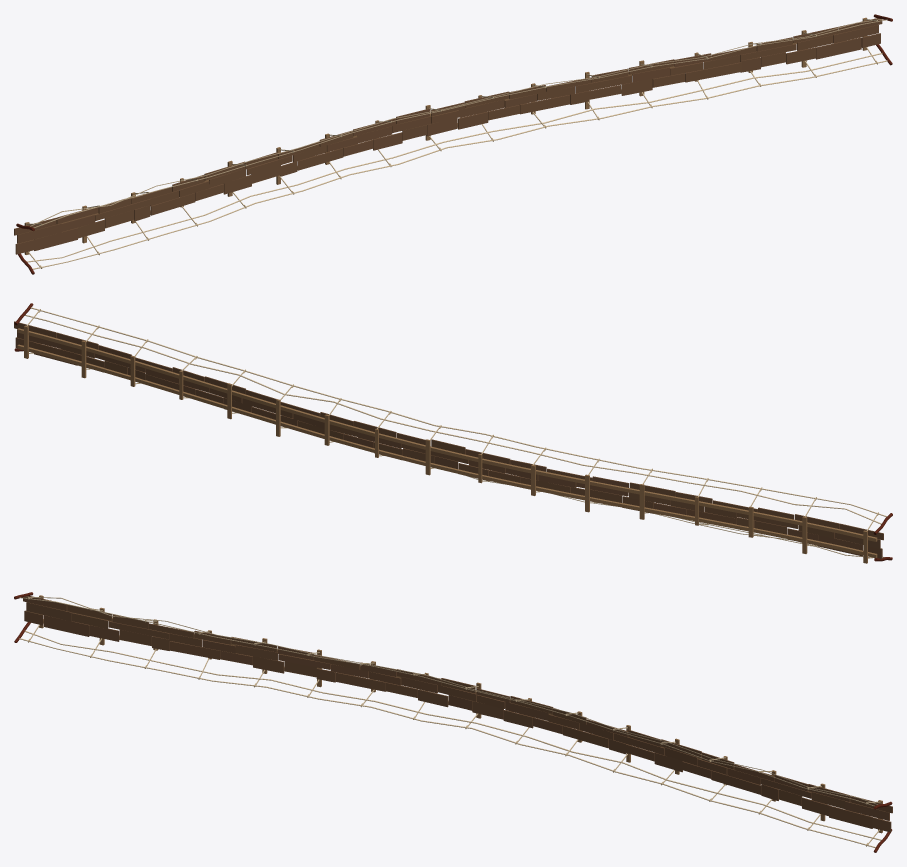
Rendered from Bridge_50m_02.fbx.
3 views of the same model, one above another, from view 1: azimuth 30°, elevation 25°; view 2: azimuth 150°, elevation 25°; view 3: azimuth 330°, elevation 25° (orthographic).
Parts seen in each view (by area): view 1: Bridge 50m; view 2: Bridge 50m; view 3: Bridge 50m.
Boxes of the visible parts, <box> form: Bridge 50m: <box>14,14,892,274</box>; Bridge 50m: <box>14,303,892,563</box>; Bridge 50m: <box>14,592,892,852</box>.
Size of the model in its own units: 5063 by 279 by 354.
